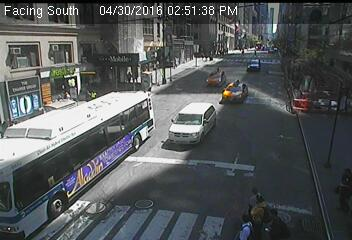neg: (220, 149, 242, 178), (169, 98, 190, 127), (294, 96, 314, 123), (158, 187, 178, 214), (12, 185, 27, 205), (137, 183, 151, 202), (153, 43, 167, 61), (105, 137, 118, 154), (63, 36, 75, 52), (275, 43, 286, 57), (35, 66, 45, 79), (182, 68, 190, 78), (219, 63, 226, 73), (64, 116, 71, 124)
pos: (326, 165, 351, 216), (246, 192, 275, 231), (264, 207, 287, 238), (242, 187, 265, 217), (235, 212, 255, 238), (124, 70, 134, 83), (239, 47, 247, 57), (199, 53, 206, 61), (253, 49, 259, 57), (203, 53, 209, 60)
